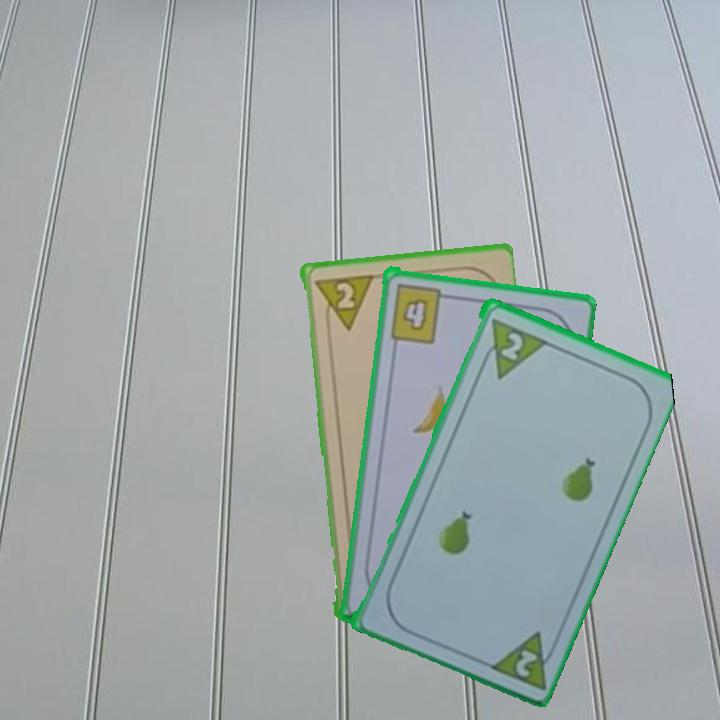2p: (475, 313, 547, 381), (310, 270, 374, 334), (511, 645, 540, 680)
4b: (386, 279, 454, 345)
